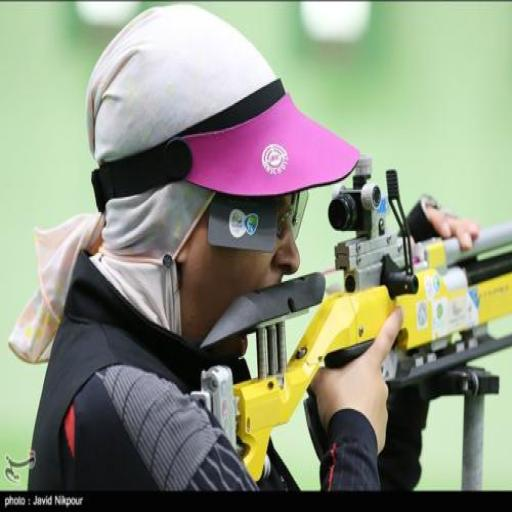shooting: (9, 3, 481, 494)
